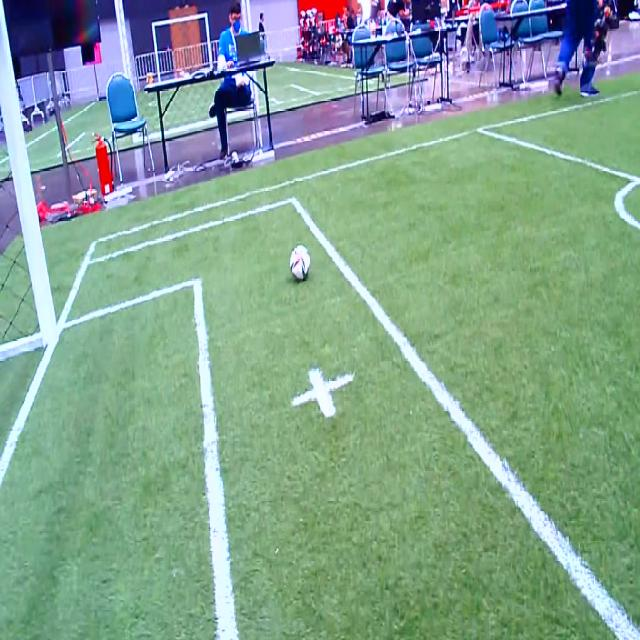ball: (290, 244, 310, 280)
